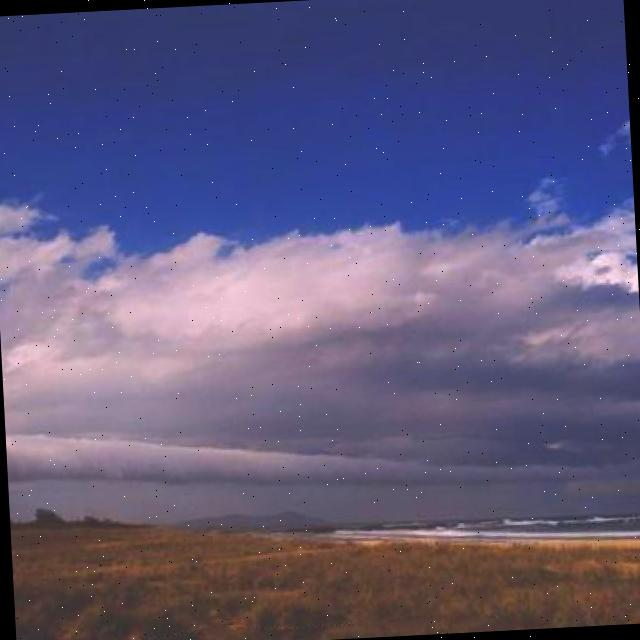Cu: (1, 107, 640, 499)
